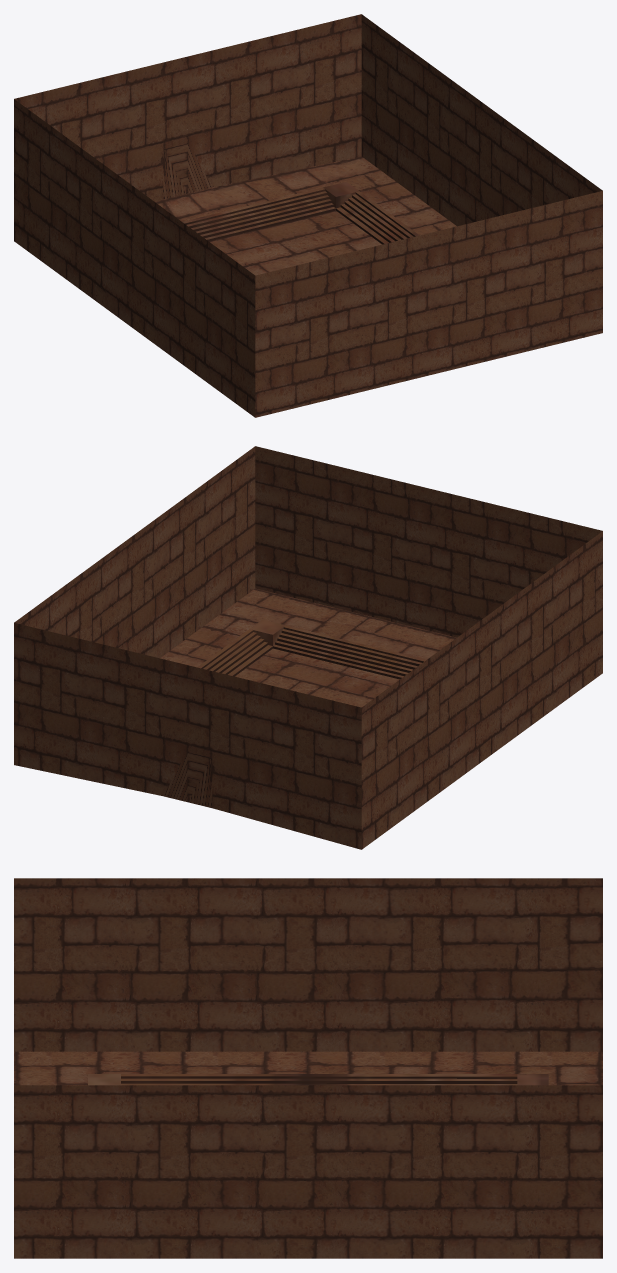
3 views of the same model, one above another, from view 1: azimuth 30°, elevation 25°; view 2: azimuth 150°, elevation 25°; view 3: azimuth 270°, elevation 25° (orthographic). The views are drawn at different scales.
Parts seen in each view (by area): view 1: BossRoom.001, BossRoomIn; view 2: BossRoom.001, BossRoomIn; view 3: BossRoom.001, BossRoomIn.
Part boxes in pixels (box(x1,y1,x2,y2)): BossRoom.001: box(14, 14, 602, 417); BossRoomIn: box(182, 182, 419, 244); BossRoom.001: box(14, 446, 602, 849); BossRoomIn: box(197, 619, 426, 679); BossRoom.001: box(14, 878, 602, 1258); BossRoomIn: box(88, 1074, 548, 1085).
Bounding box in the file's own units: 462 × 198 × 555.
